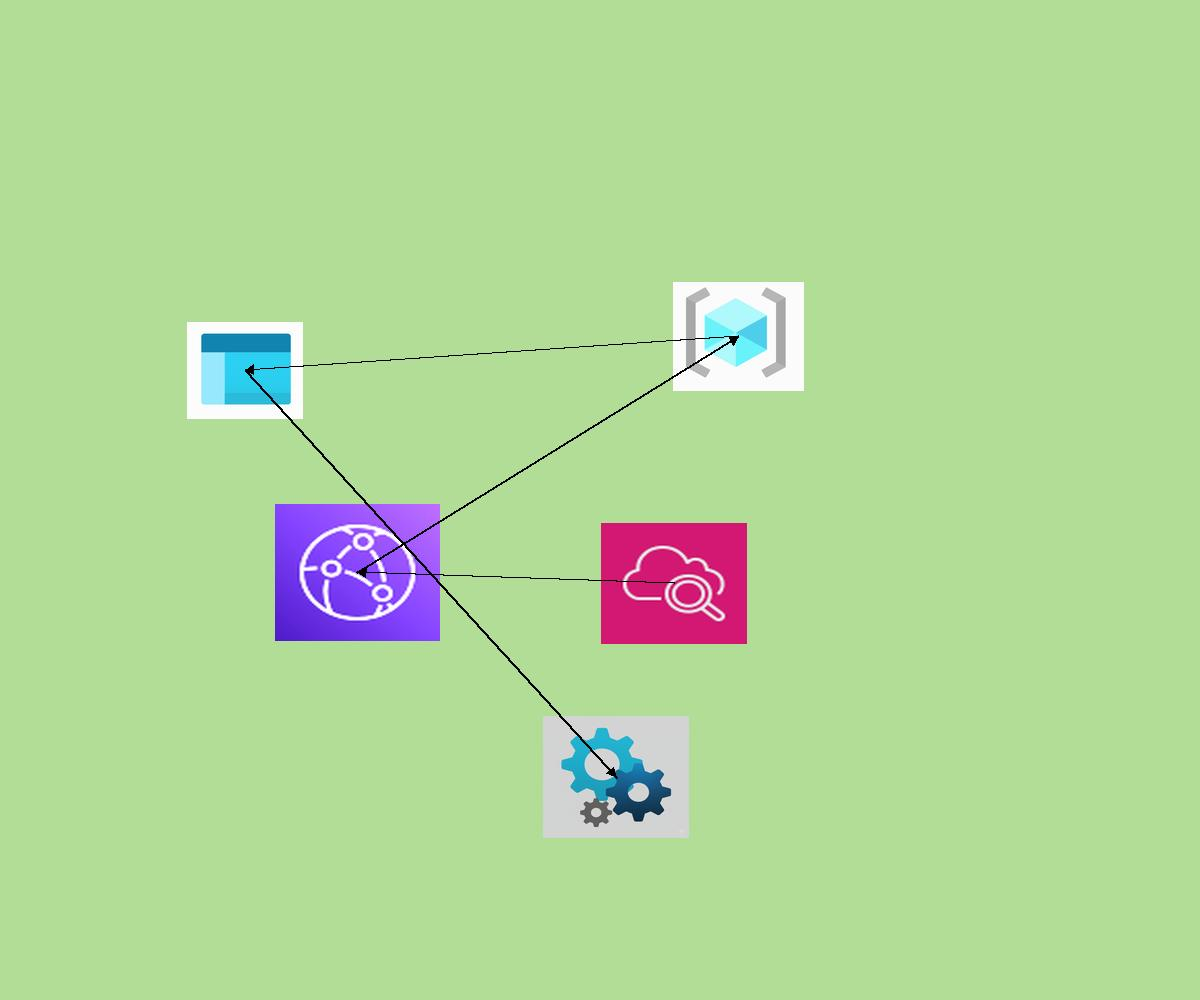AWS-CloudFront: (275, 504, 440, 641)
AWS-CloudWatch: (601, 523, 747, 644)
Azure_api: (543, 716, 689, 838)
Azure_management-portal: (187, 322, 303, 419)
Azure_resource_group: (673, 282, 804, 391)
